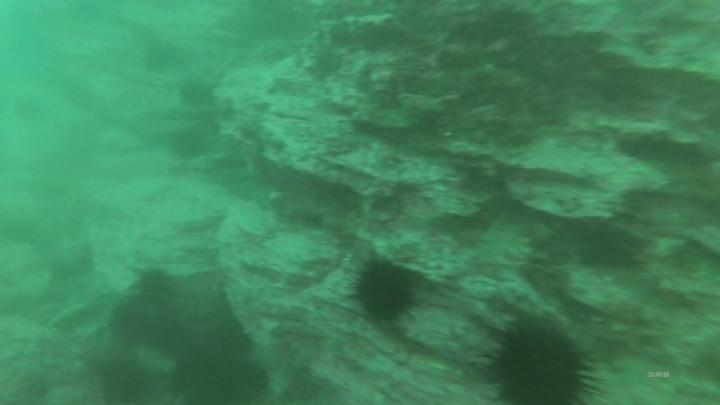echinus: (486, 320, 596, 405), (352, 263, 422, 326), (113, 292, 175, 346), (176, 76, 220, 114), (169, 130, 214, 165)
